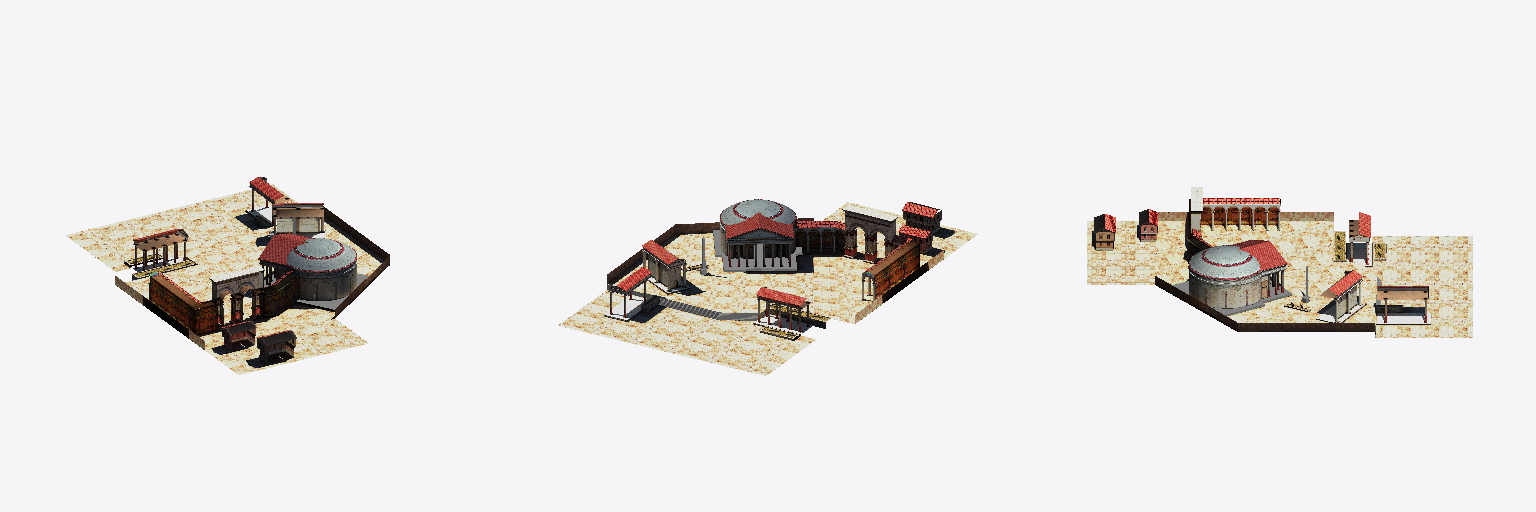
The picture shows the model from 3 angles: view 1: azimuth 30°, elevation 25°; view 2: azimuth 150°, elevation 25°; view 3: azimuth 270°, elevation 25°; orthographic projection.
Parts seen in each view (by area): view 1: hor_floor, big_build_cil, right_geder, arch, walls, left_build2, domiki, build_right, geder_left, build_left, gorshki; view 2: hor_floor, big_build_cil, vertical_floor, arch, right_geder, left_build2, build_right, geder_left, domiki, build_left, gorshki, front (+1 smaller); view 3: hor_floor, big_build_cil, right_geder, walls, left_build2, build_left, domiki, build_right, gorshki, vertical_floor.
Boxes of the visible parts, box(x1,y1,x2,y2) form: hor_floor: box(65, 184, 389, 374); big_build_cil: box(258, 233, 356, 272); right_geder: box(148, 272, 218, 334); arch: box(209, 266, 264, 326); walls: box(279, 260, 356, 300); left_build2: box(270, 203, 325, 239); domiki: box(221, 321, 296, 363); build_right: box(130, 229, 188, 271); geder_left: box(263, 270, 298, 318); build_left: box(245, 177, 291, 225); gorshki: box(124, 215, 272, 280); hor_floor: box(558, 202, 977, 375); big_build_cil: box(720, 199, 796, 238); vertical_floor: box(607, 230, 802, 320); arch: box(842, 205, 897, 263); right_geder: box(861, 235, 919, 300); left_build2: box(642, 240, 690, 294); build_right: box(753, 287, 813, 335); geder_left: box(794, 221, 844, 253); domiki: box(898, 202, 941, 253); build_left: box(604, 267, 651, 321); gorshki: box(641, 263, 830, 340); front: box(727, 228, 793, 266); hor_floor: box(1087, 212, 1472, 337); big_build_cil: box(1188, 240, 1287, 279); right_geder: box(1189, 198, 1280, 230); walls: box(1188, 266, 1267, 308); left_build2: box(1317, 270, 1366, 322); build_left: box(1376, 286, 1430, 323); domiki: box(1094, 209, 1157, 250); build_right: box(1346, 212, 1372, 266); gorshki: box(1284, 231, 1402, 312); vertical_floor: box(1172, 266, 1380, 331).
Bounding box in the file's own units: 360 × 82.27 × 529.
17 materials, 14 textured.